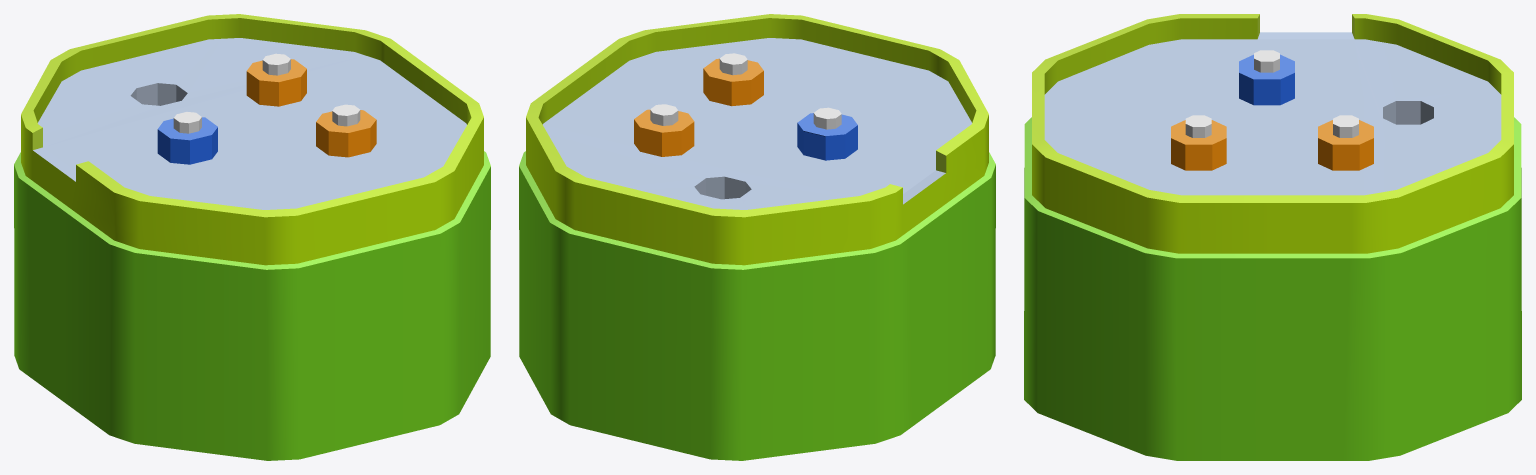
File: map3.fbx
3 views of the same model, side by side, from view 1: azimuth 30°, elevation 25°; view 2: azimuth 150°, elevation 25°; view 3: azimuth 270°, elevation 25° (orthographic). The views are drawn at different scales.
Visible parts, largest first — view 1: polySurface12, polySurface16, polySurface18, polySurface13; view 2: polySurface12, polySurface18, polySurface16, polySurface13; view 3: polySurface12, polySurface13, polySurface16, polySurface18.
Part boxes in pixels (<box>): polySurface12: <box>14,14,490,460</box>; polySurface16: <box>316,104,376,157</box>; polySurface18: <box>246,53,306,106</box>; polySurface13: <box>157,112,217,164</box>; polySurface12: <box>519,14,995,460</box>; polySurface18: <box>634,104,694,156</box>; polySurface16: <box>703,53,763,106</box>; polySurface13: <box>797,107,857,160</box>; polySurface12: <box>1024,14,1521,460</box>; polySurface13: <box>1239,50,1294,105</box>; polySurface16: <box>1171,115,1226,170</box>; polySurface18: <box>1318,115,1373,170</box>.
Bounding box in the file's own units: 32.53 × 21.25 × 35.14.
